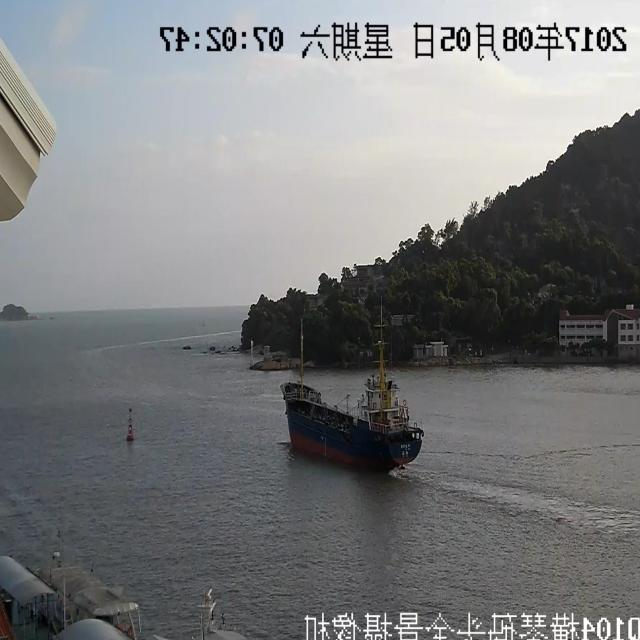buoy: (119, 402, 144, 442)
fishing boat: (282, 294, 444, 462)
